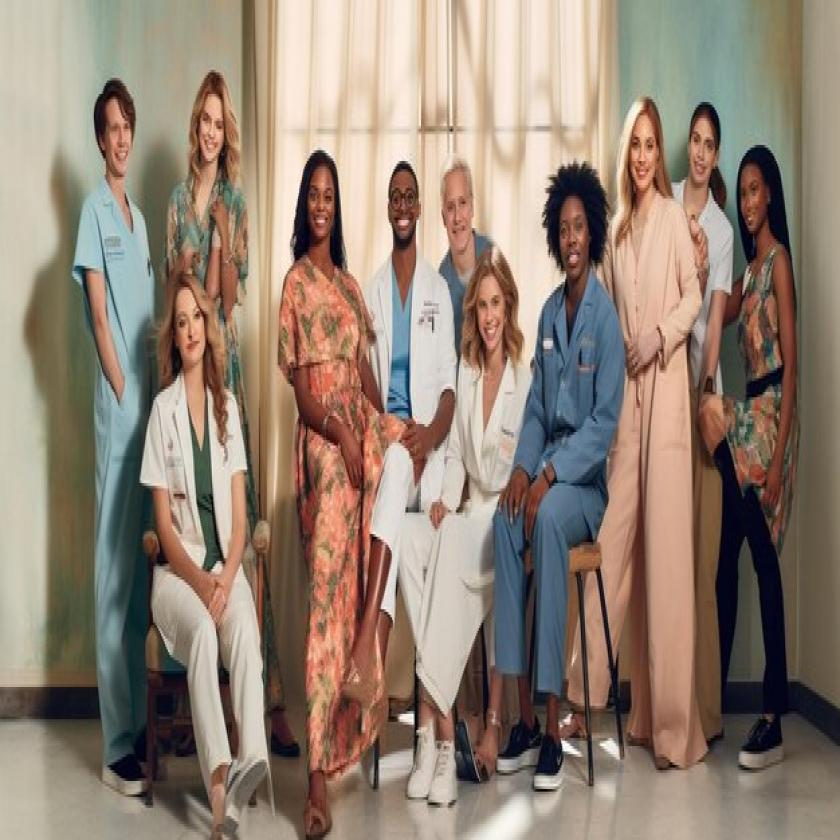Sin_casco: (534, 147, 610, 295), (287, 127, 349, 270), (463, 240, 520, 370), (188, 59, 240, 197), (739, 135, 794, 263), (614, 59, 664, 199), (163, 260, 214, 395), (92, 70, 144, 185), (381, 154, 427, 267), (438, 149, 477, 249), (689, 86, 721, 195)
